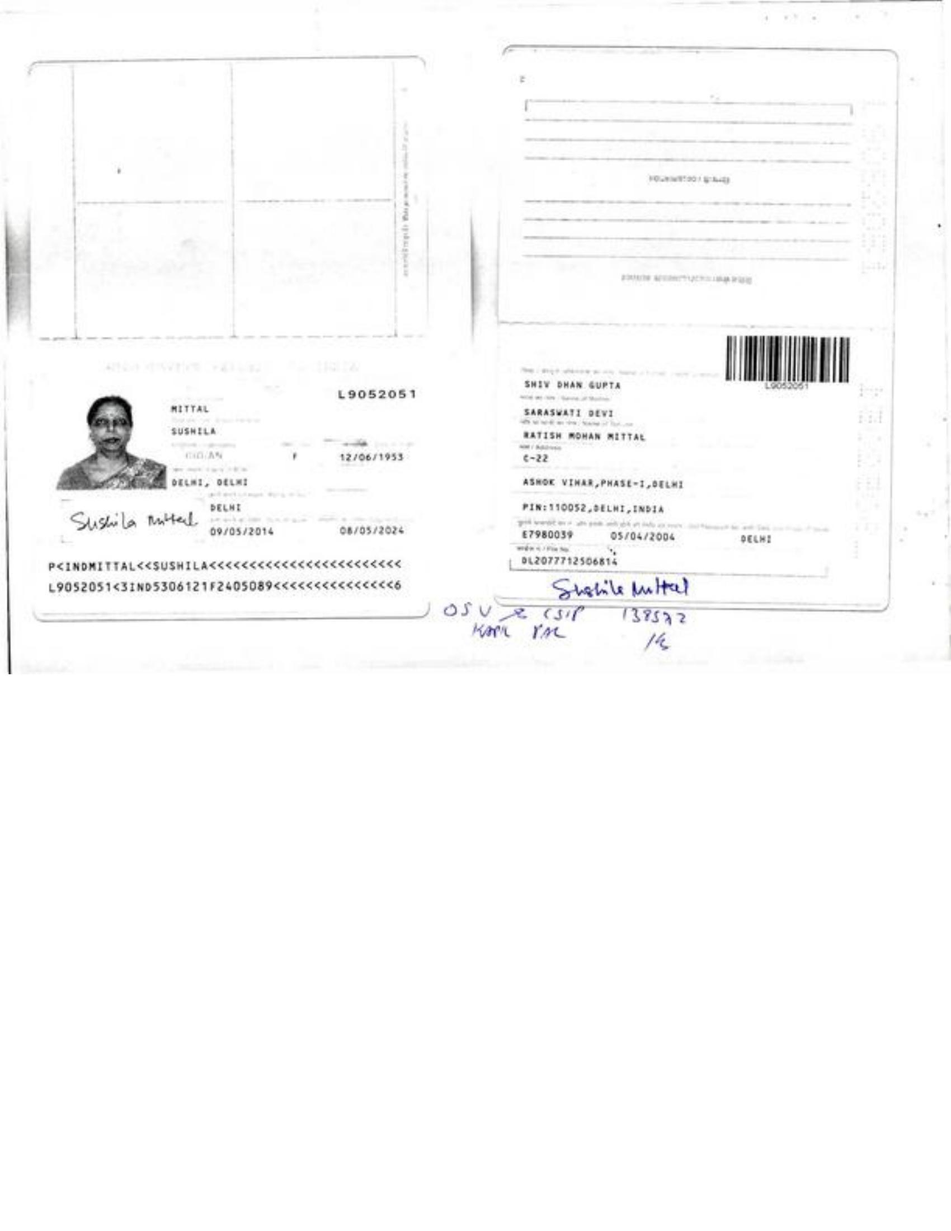DOB: (336, 448, 421, 469)
File_no: (516, 555, 626, 567)
Surname: (166, 397, 216, 414)
address: (515, 439, 706, 519)
date_of_expiry: (330, 521, 413, 540)
date_of_issue: (204, 520, 282, 539)
details: (38, 555, 410, 595)
father_name: (514, 374, 632, 401)
mother_name: (514, 402, 628, 417)
name: (159, 414, 249, 443)
nationality: (171, 439, 244, 459)
old_passport_details: (511, 524, 782, 549)
passport_no: (326, 379, 427, 405), (760, 377, 818, 396)
photo: (63, 387, 160, 489)
place_of_birth: (170, 476, 263, 489)
place_of_issue: (206, 496, 249, 515)
sex: (276, 445, 316, 473)
sign: (68, 503, 203, 538)
spouse_name: (518, 424, 655, 441)
